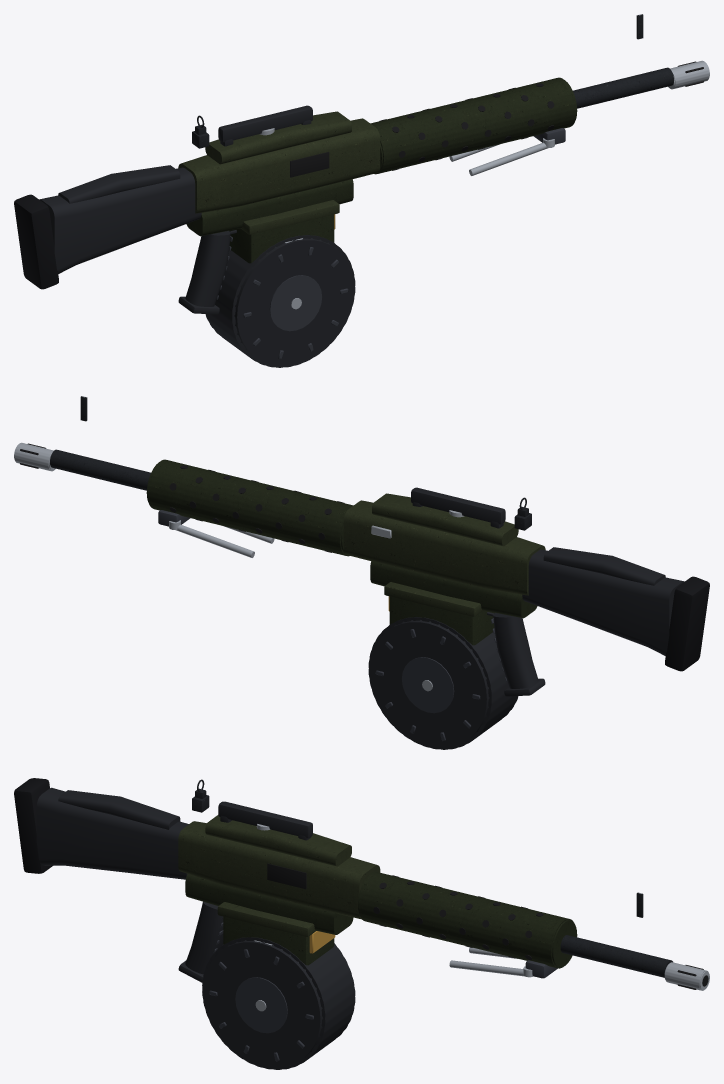
The picture shows the model from 3 angles, top to bottom: view 1: azimuth 30°, elevation 25°; view 2: azimuth 150°, elevation 25°; view 3: azimuth 330°, elevation 25°; orthographic projection.
Parts seen in each view (by area): view 1: mg60_body, mag_drum, mg60_stock, mag_ext, mag_std, iron_sights; view 2: mg60_body, mag_drum, mg60_stock, mag_ext, mag_std, iron_sights; view 3: mg60_body, mag_drum, mg60_stock, mag_ext, mag_std, iron_sights.
Part boxes in pixels (x1,y1,x2,y2): mg60_body: (178,60,709,314); mag_drum: (205,235,355,367); mg60_stock: (14,165,201,289); mag_ext: (229,200,339,263); mag_std: (236,214,335,263); iron_sights: (192,14,643,148); mg60_body: (14,442,545,696); mag_drum: (368,617,518,749); mg60_stock: (522,547,709,671); mag_ext: (384,582,494,645); mag_std: (388,596,494,644); iron_sights: (80,396,531,530); mg60_body: (178,801,709,990); mag_drum: (202,937,355,1069); mg60_stock: (14,778,188,879); mag_ext: (217,902,334,965); mag_std: (223,917,335,965); iron_sights: (192,779,643,917).
Bounding box in the file's own units: 1.05 × 0.3787 × 0.096.
Materials: 9 (3 with a texture image).
